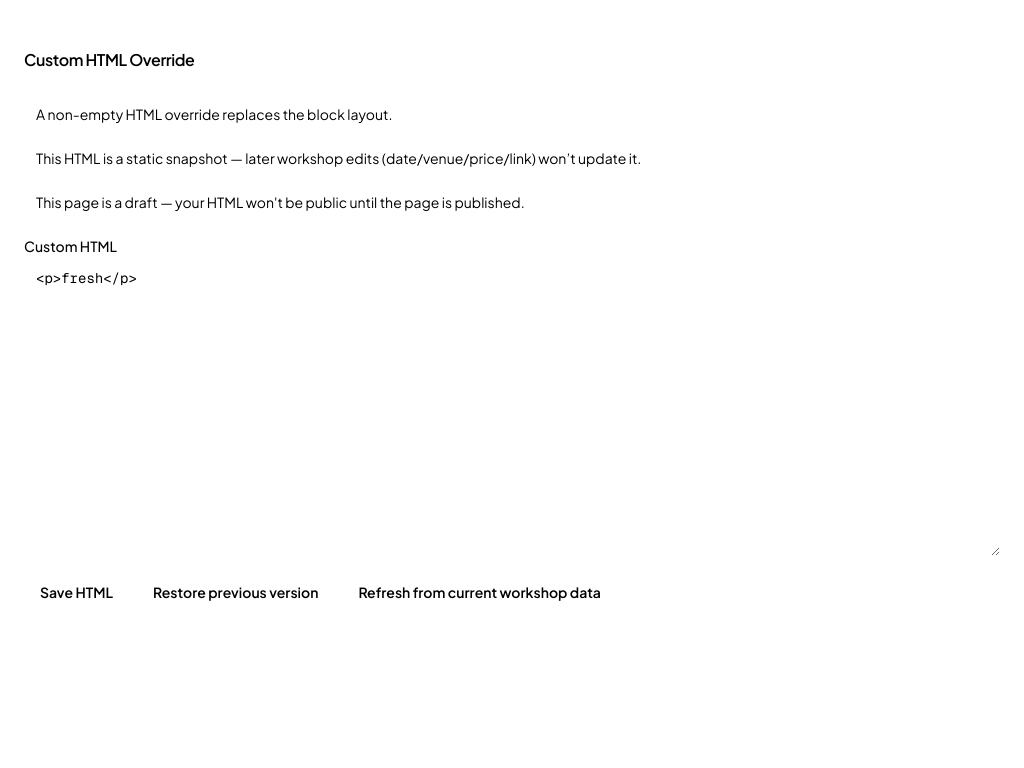
Scenario: clicking "Refresh from current workshop data" opens the confirm dialog
Click the button "Refresh from current workshop data" at (480, 592), box [342,572,617,612]
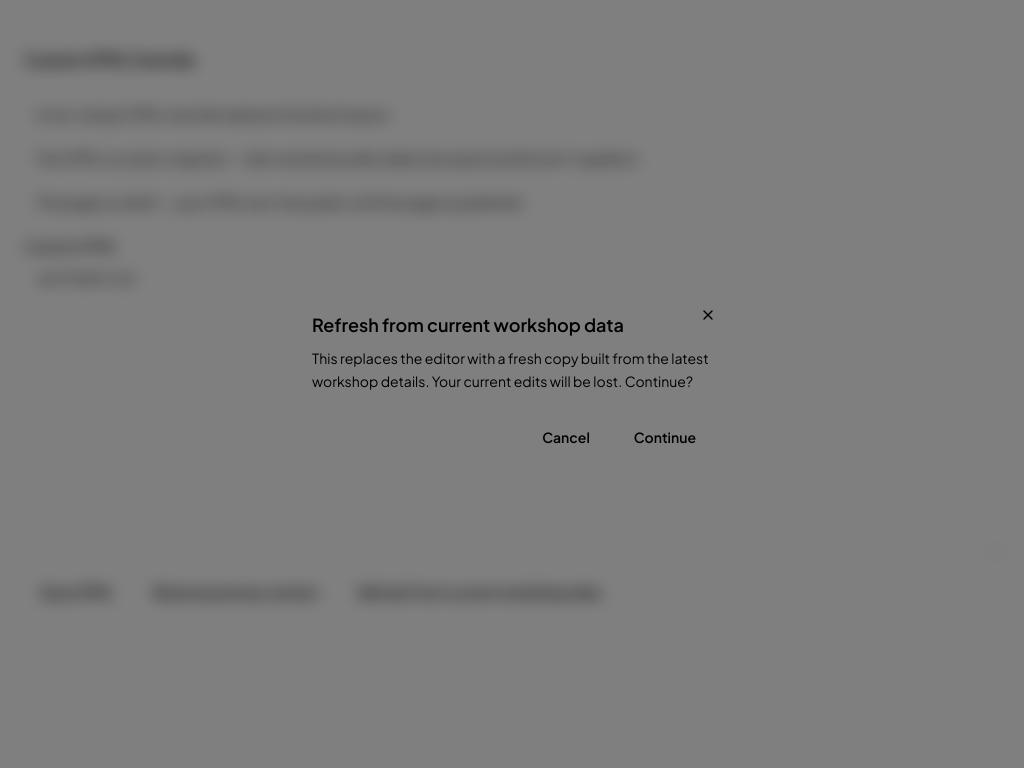
Expected: the text "This replaces the editor with a fresh copy" is shown, [312,349,709,390]
